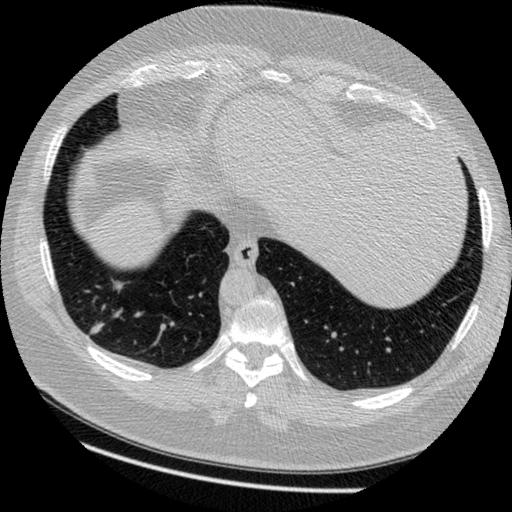nodule: (110, 275, 130, 295)
